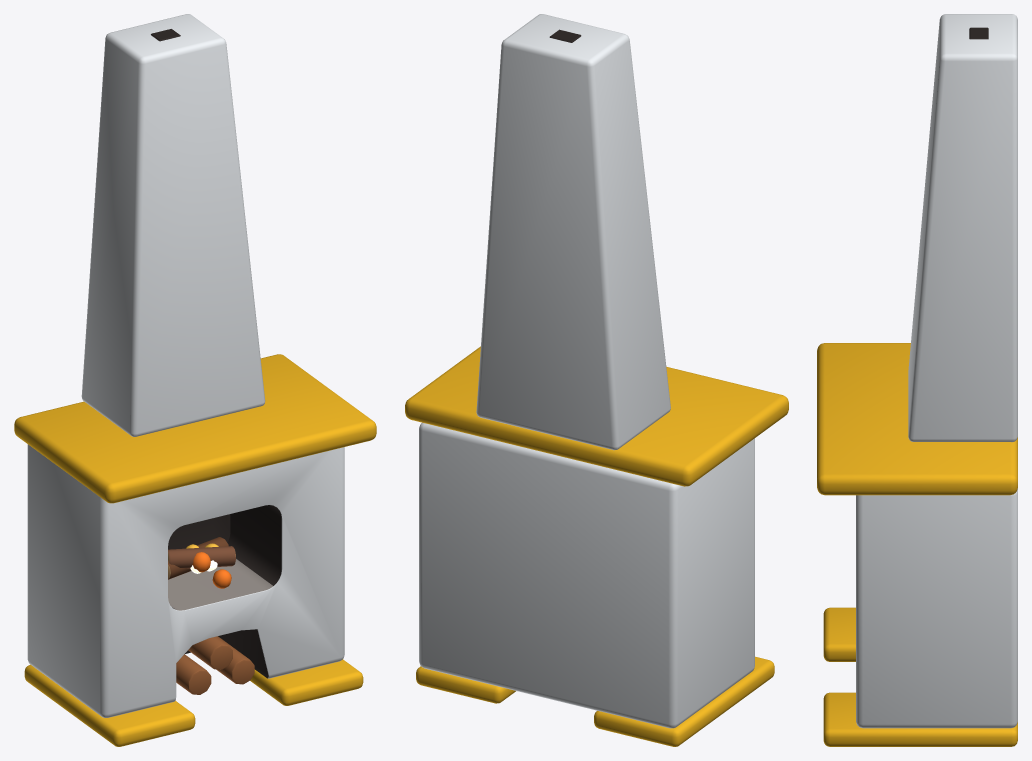
Rendered from lareira_branca_tampo_amarelo.glb.
The picture shows the model from 3 angles, left to right: view 1: azimuth 30°, elevation 25°; view 2: azimuth 150°, elevation 25°; view 3: azimuth 270°, elevation 25°; orthographic projection. The views are drawn at different scales.
Parts seen in each view (by area): view 1: lareira_branca_tampo_amarelo; view 2: lareira_branca_tampo_amarelo; view 3: lareira_branca_tampo_amarelo.
Boxes of the visible parts, x1,y1,x2,y2 form: lareira_branca_tampo_amarelo: (14, 14, 376, 746); lareira_branca_tampo_amarelo: (405, 14, 788, 746); lareira_branca_tampo_amarelo: (817, 14, 1017, 746).
Bounding box in the file's own units: 1 × 2.22 × 0.62.
Materials: 2 (1 with a texture image).
